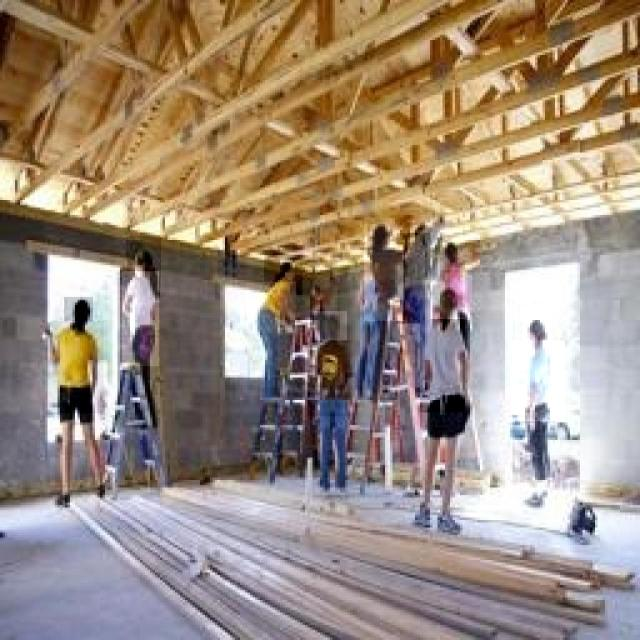Helmet: (46, 321, 104, 413), (510, 341, 565, 422), (420, 319, 465, 413), (122, 271, 159, 366), (308, 340, 352, 416), (396, 233, 431, 323), (364, 244, 404, 321), (246, 282, 296, 333), (445, 260, 472, 328), (127, 236, 161, 289), (425, 282, 463, 324), (264, 254, 302, 295), (314, 311, 347, 353), (522, 309, 552, 351), (64, 297, 93, 339), (364, 219, 395, 254), (442, 230, 468, 268), (404, 217, 432, 252)
